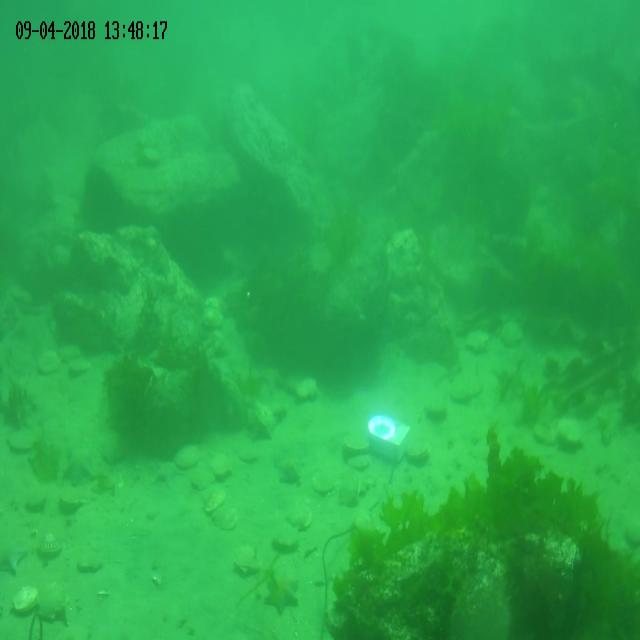scallop: (29, 580, 66, 619), (558, 412, 584, 452), (448, 371, 482, 401), (58, 485, 88, 518), (232, 544, 260, 574), (311, 464, 337, 496), (272, 520, 296, 554), (7, 426, 38, 452), (214, 502, 240, 532), (200, 483, 225, 514), (406, 430, 430, 462), (290, 499, 311, 533), (501, 317, 524, 348), (12, 585, 38, 612), (341, 428, 369, 453), (38, 532, 64, 558), (26, 489, 48, 519), (176, 442, 202, 467), (466, 327, 488, 354), (78, 549, 102, 573), (37, 350, 59, 376), (347, 449, 372, 471), (212, 450, 232, 477), (68, 354, 90, 378), (426, 392, 444, 417), (192, 466, 212, 487)
starfish: (265, 570, 300, 613), (0, 540, 25, 574), (148, 458, 172, 492)
